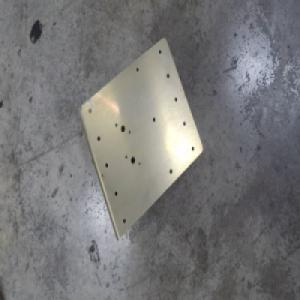MetalSheet: (75, 34, 203, 243)
